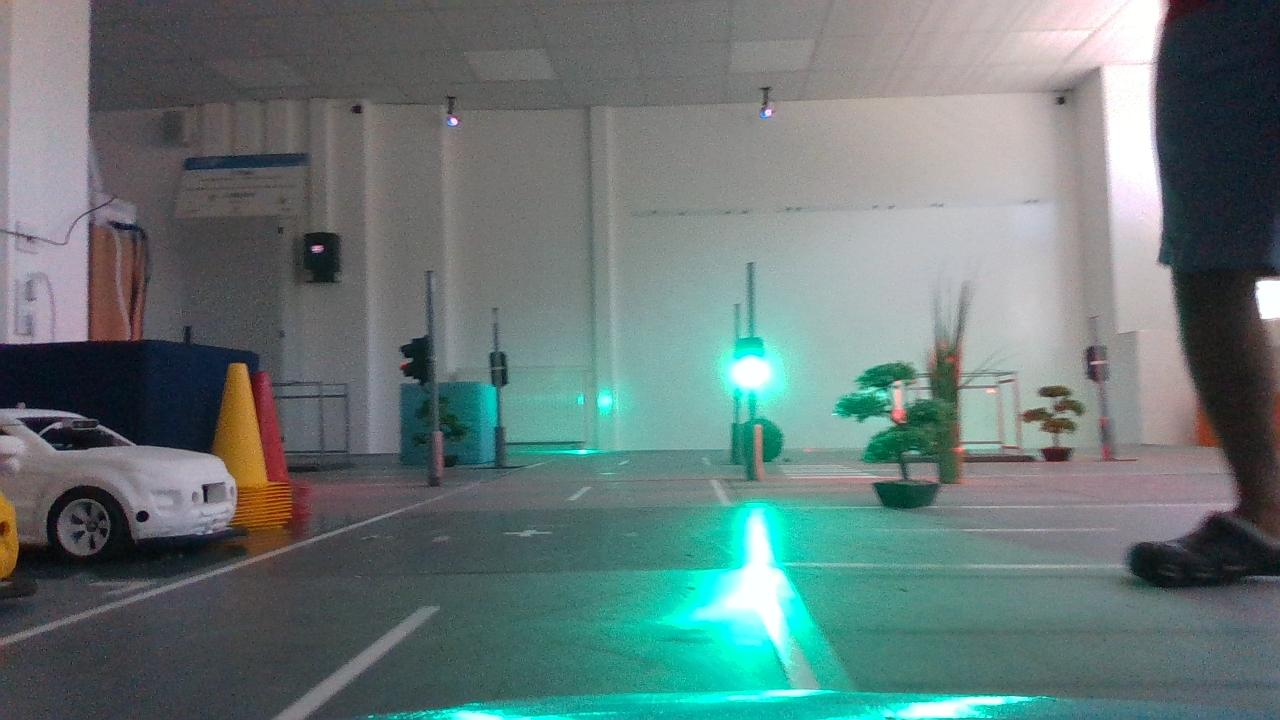traffic_light_green: (726, 334, 777, 398)
